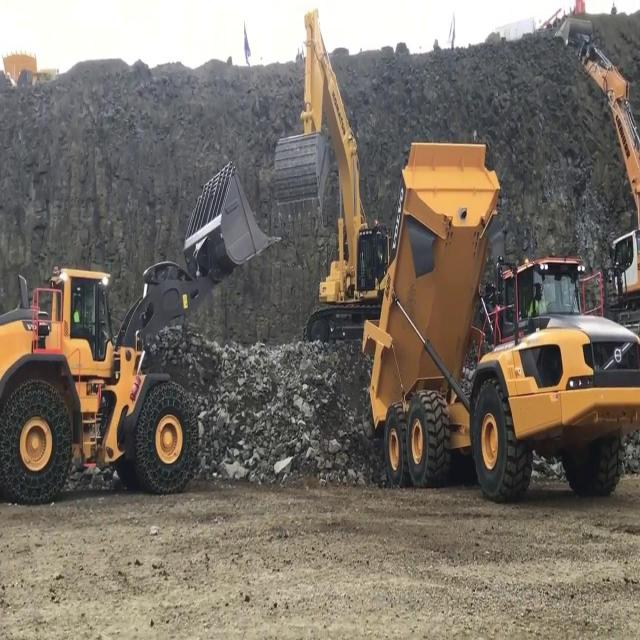buldozerpayloadergrader: (0, 157, 282, 502)
dump_truck: (358, 130, 640, 500)
excavator: (272, 4, 394, 343), (554, 13, 640, 322)
